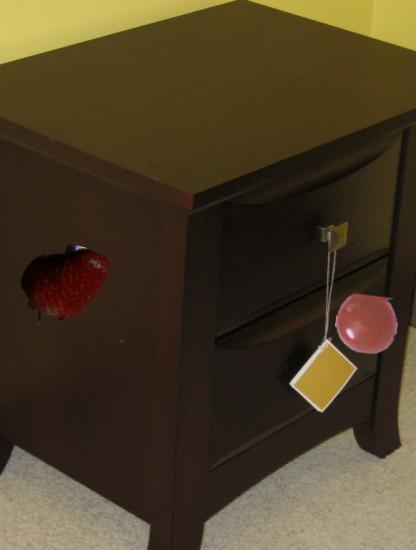Redcurrant: (336, 293, 398, 355)
Strawberry: (18, 243, 106, 331)
